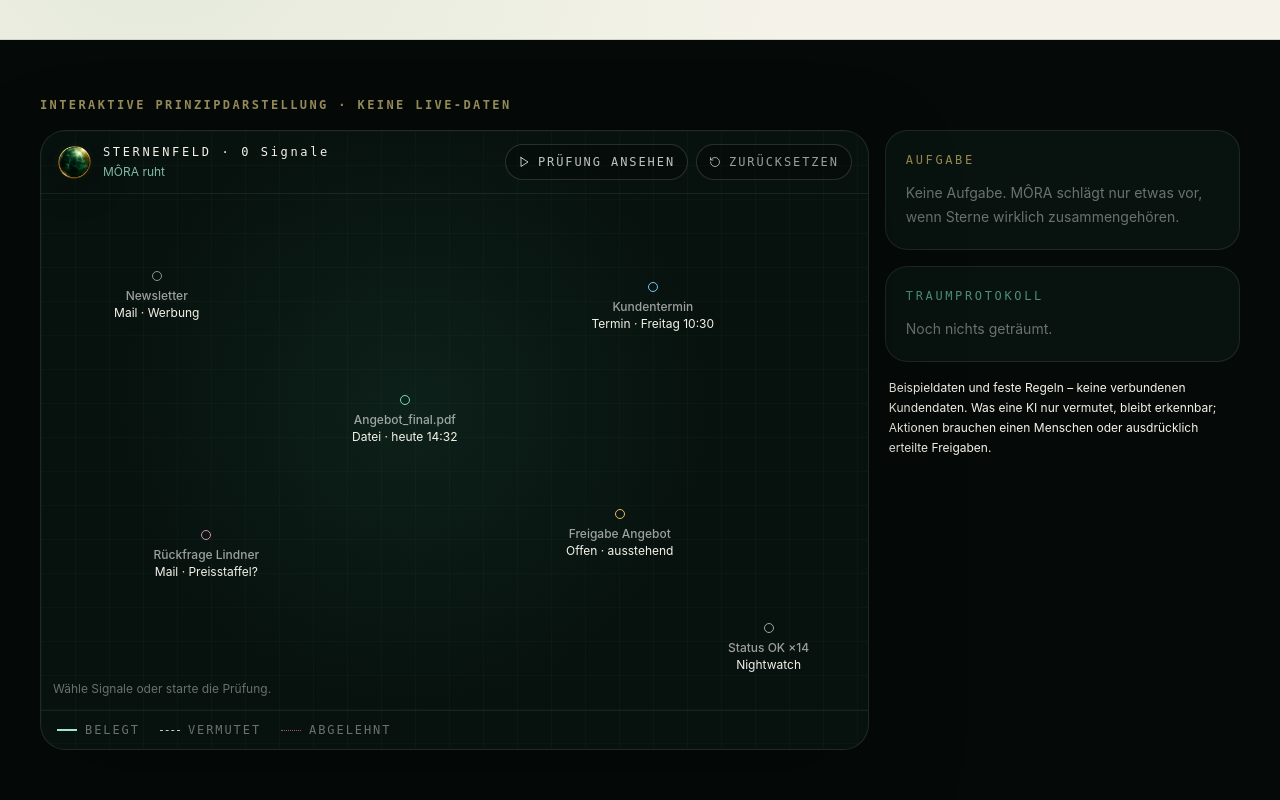
Scenario: MoraDeepViewLab — optional deterministic technical view › turns a proposal into a moon and then a star
This screenshot has width=1280, height=800.
(page scrolled)
Expected: the text "Keine Aufgabe" is shown, 906,184 -> 1202,225
Click the button "Angebot_final.pdf Datei · heute 14:32": (405, 400) 387,382 -> 423,418
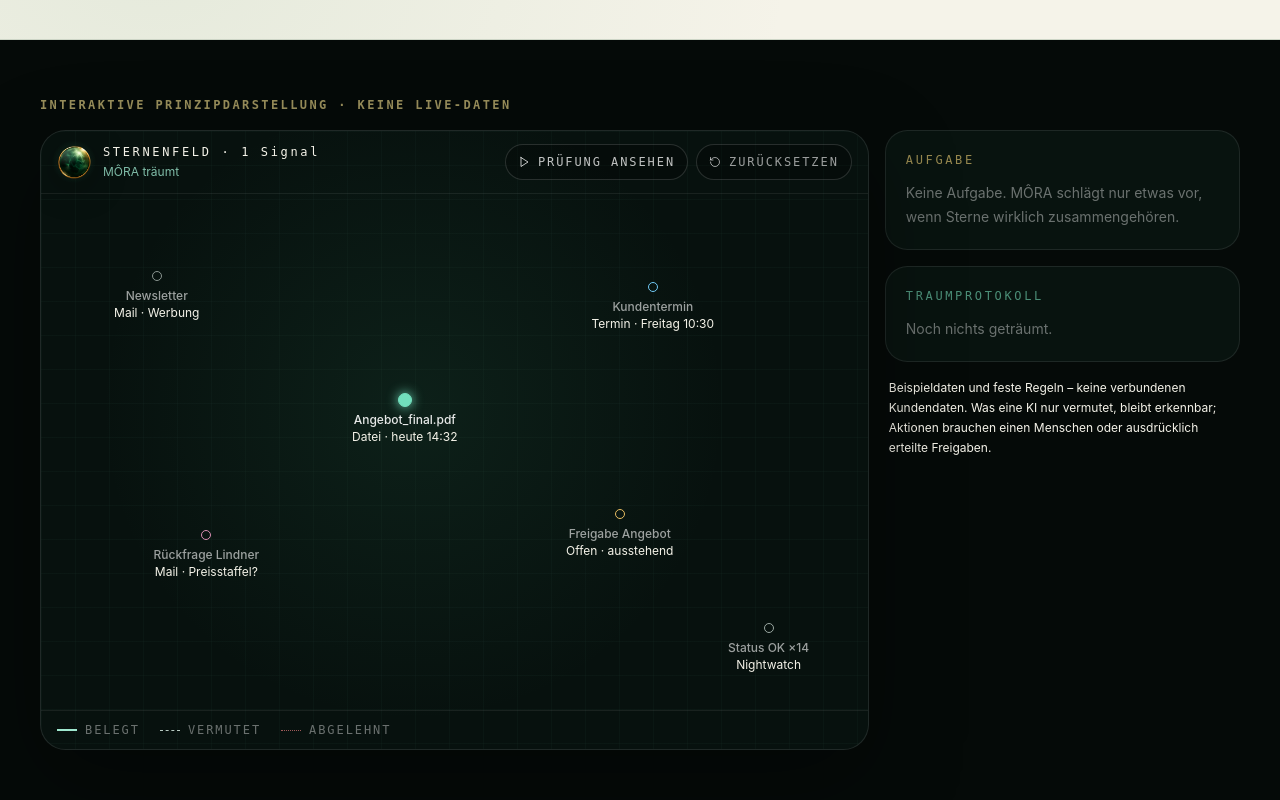
Click the button "Kundentermin Termin · Freitag 10:30": (653, 287) 635,269 -> 671,305
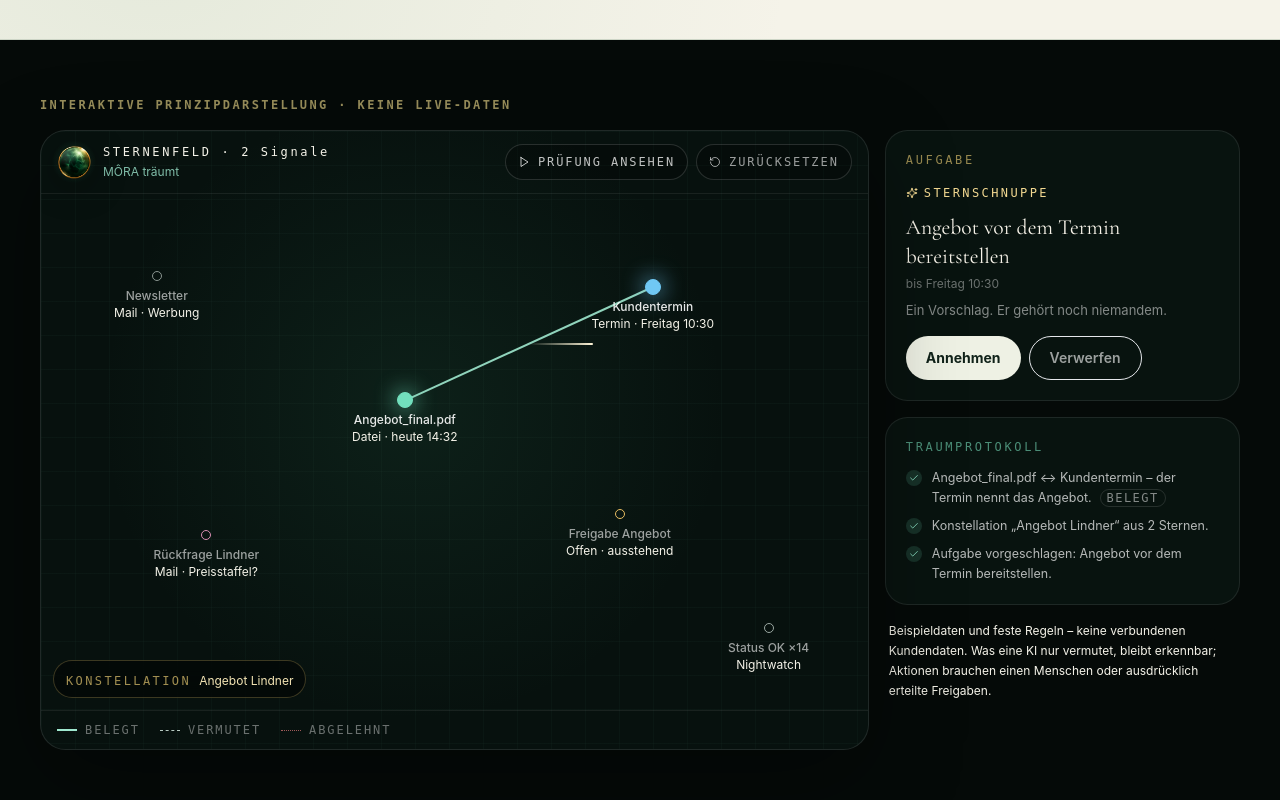
Expected: the text "Angebot vor dem Termin bereitstellen" is shown, 906,214 -> 1120,269
Expected: the text "STERNSCHNUPPE" is shown, 906,184 -> 1049,202
Click the button "Annehmen": (963, 358) 906,336 -> 1021,380
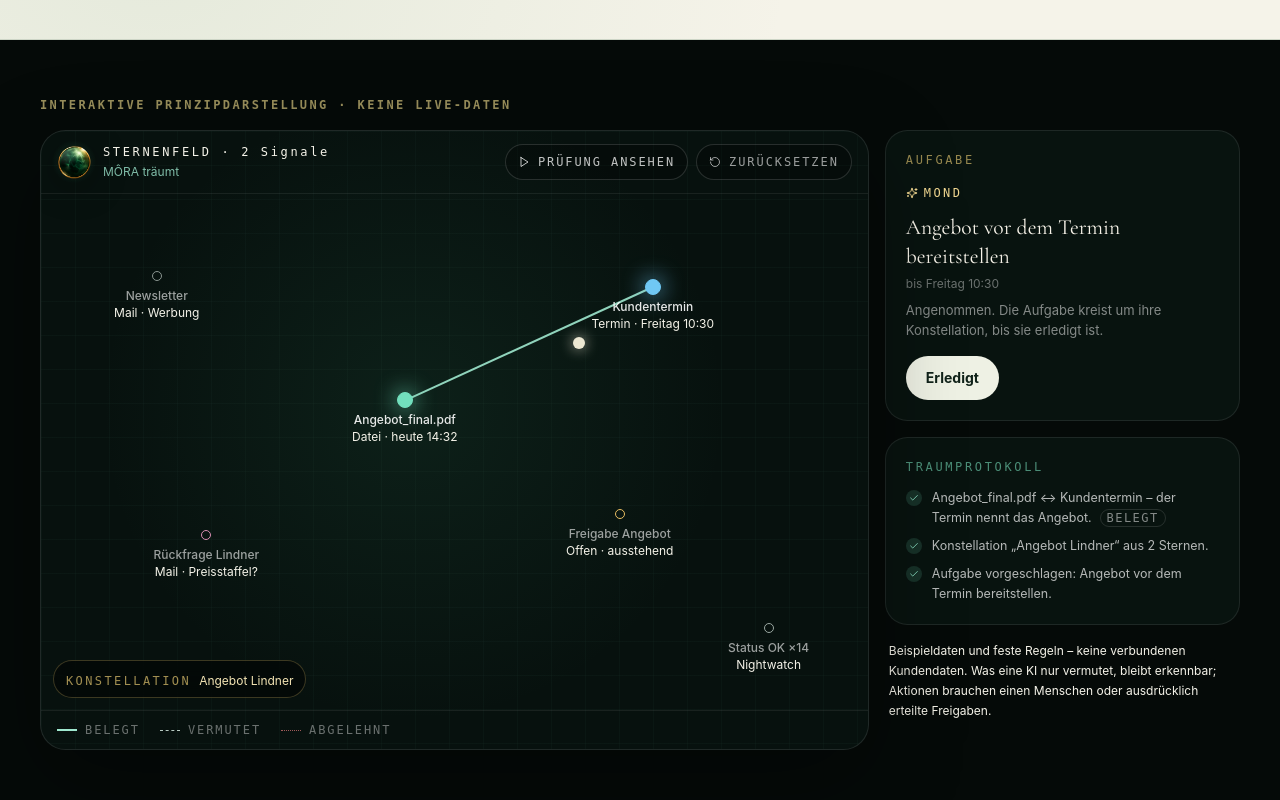
Expected: the text "MOND" is shown, 906,184 -> 962,202
Click the button "Erledigt": (952, 378) 906,356 -> 999,400
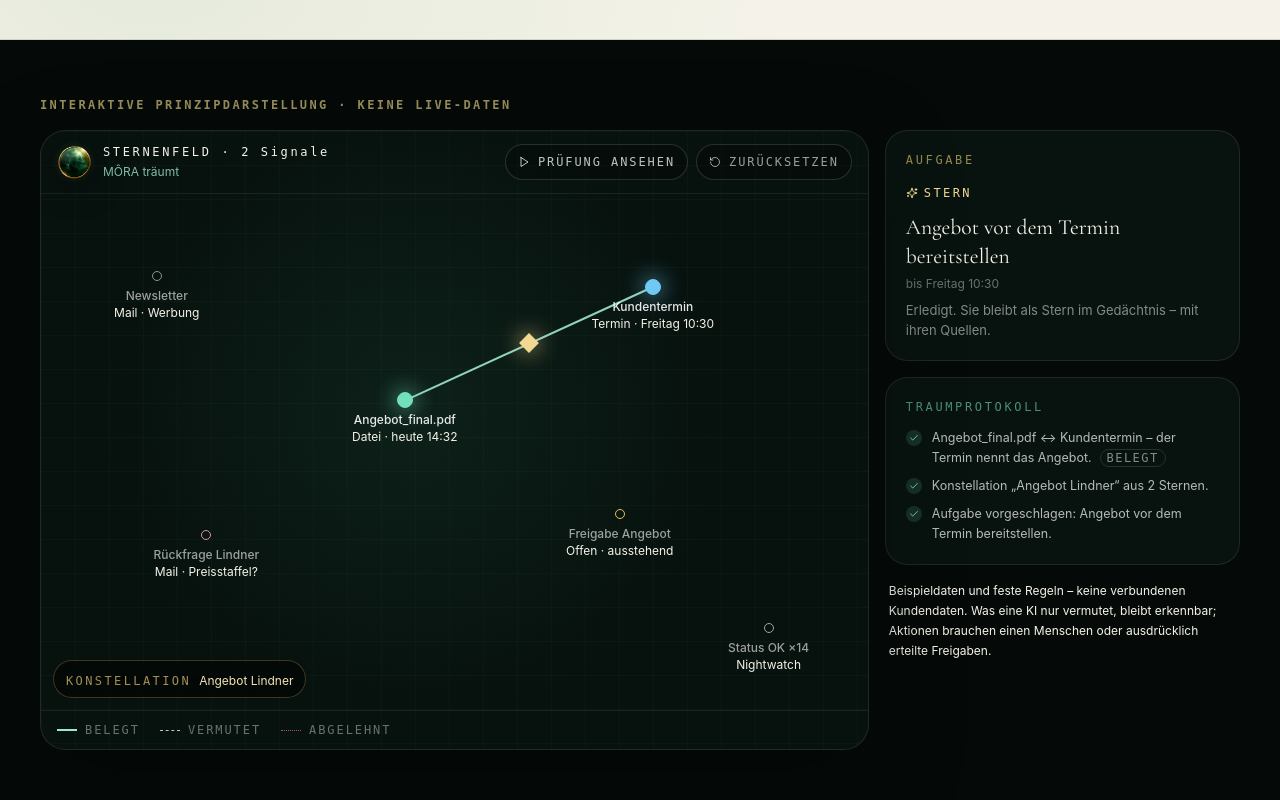
Expected: the text "STERN" is shown, 906,184 -> 972,202
